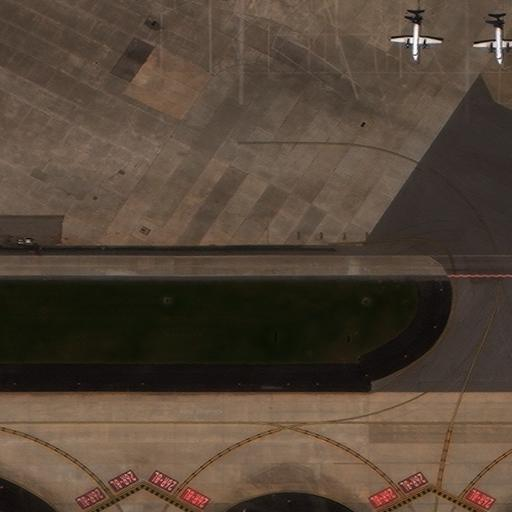Medium Civil Transport: (389, 9, 442, 63), (472, 13, 511, 67)
